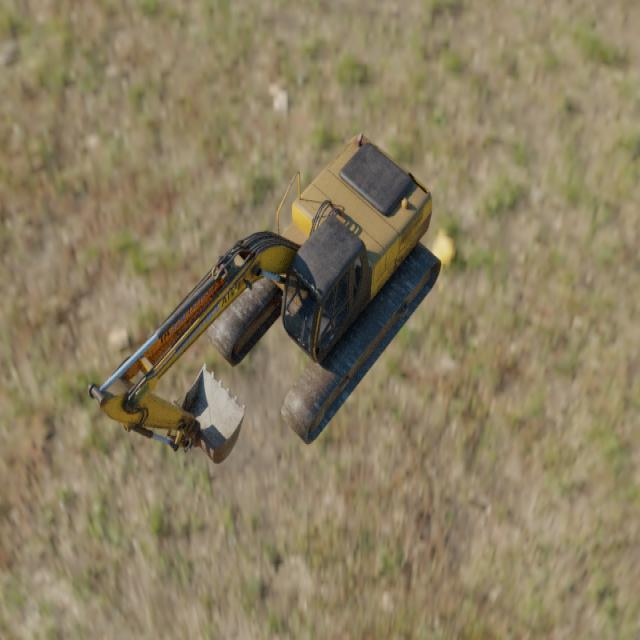excavator: (86, 132, 441, 464)
